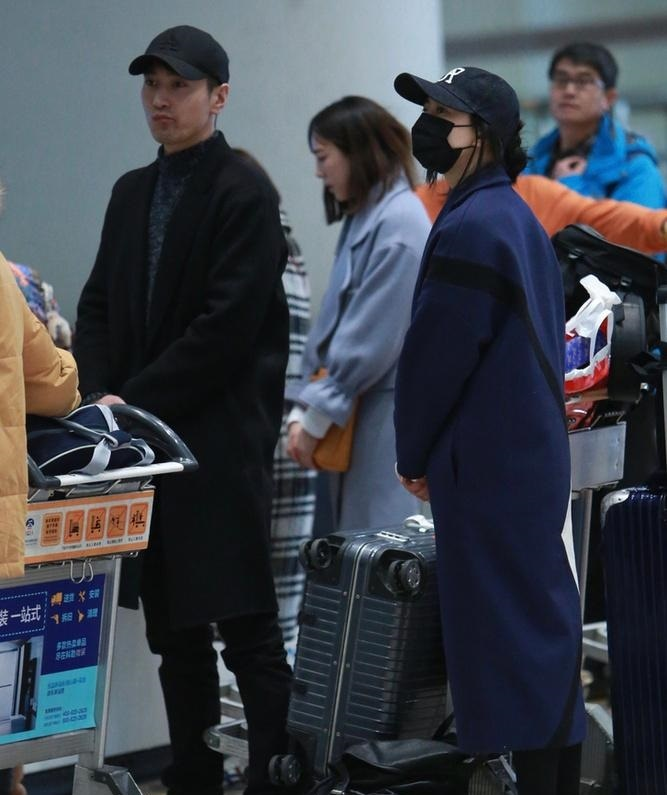Mask: (406, 88, 497, 178)
